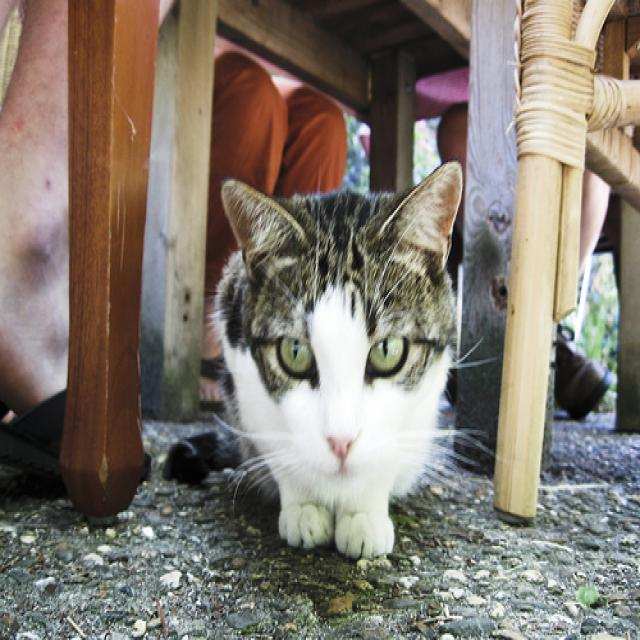cat: (163, 158, 497, 561)
